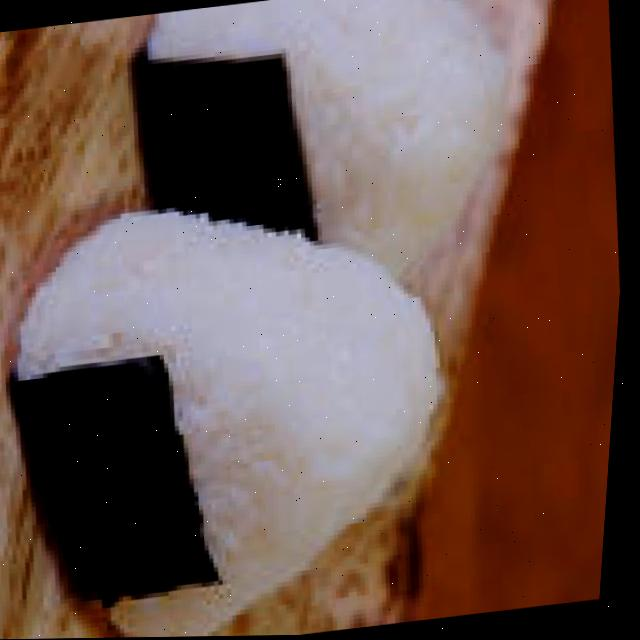米饭主食: (0, 176, 567, 640), (116, 0, 561, 316)
